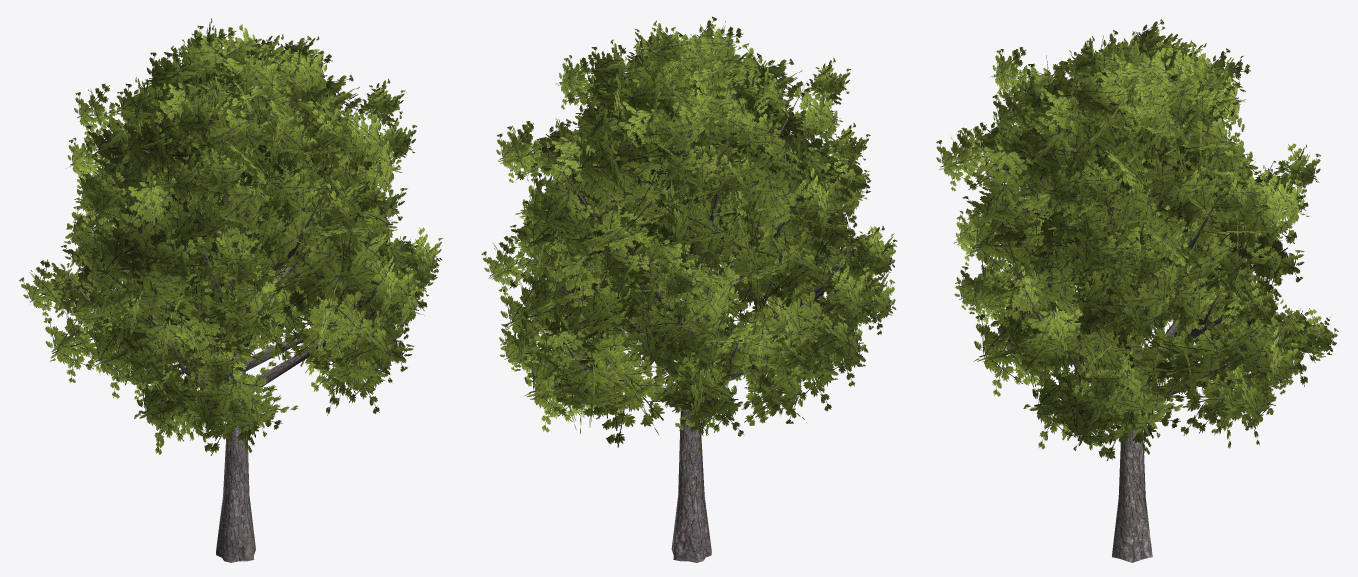
The model's file is tr_lime.glb.
3 views of the same model, side by side, from view 1: azimuth 30°, elevation 25°; view 2: azimuth 150°, elevation 25°; view 3: azimuth 270°, elevation 25° (orthographic).
Parts seen in each view (by area): view 1: body|leaves, body|bark; view 2: body|leaves, body|bark; view 3: body|leaves, body|bark.
Part boxes in pixels (x1,y1,x2,y2): body|leaves: [19, 18, 442, 455]; body|bark: [64, 99, 410, 562]; body|leaves: [481, 16, 897, 452]; body|bark: [523, 64, 860, 562]; body|leaves: [936, 19, 1338, 460]; body|bark: [978, 103, 1300, 562].
Bounding box in the file's own units: 6.96 × 9.52 × 6.83.
2 materials, 2 textured.
